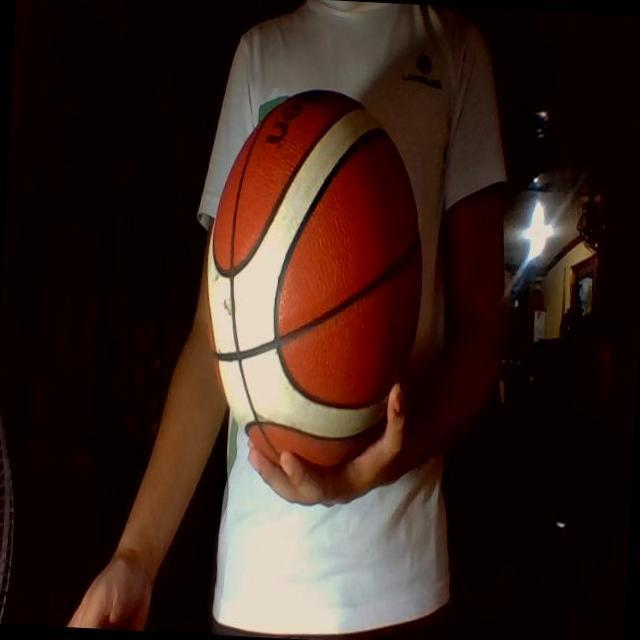ball: (195, 82, 432, 486)
